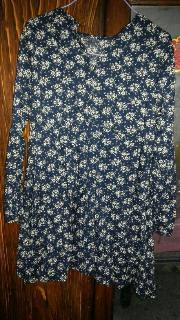long sleeve dress: (4, 7, 177, 299)
